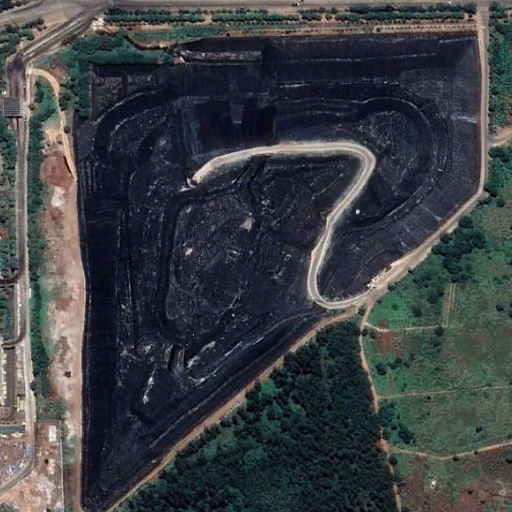lf: (75, 36, 480, 512)
